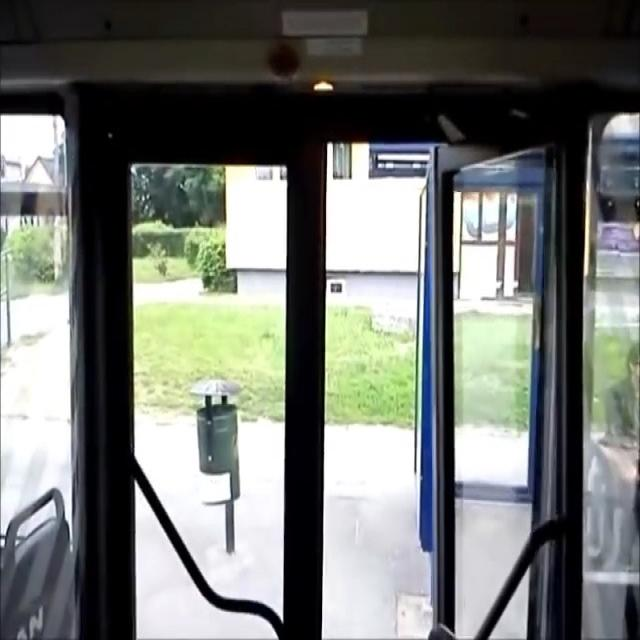bus-door: (76, 87, 568, 640)
